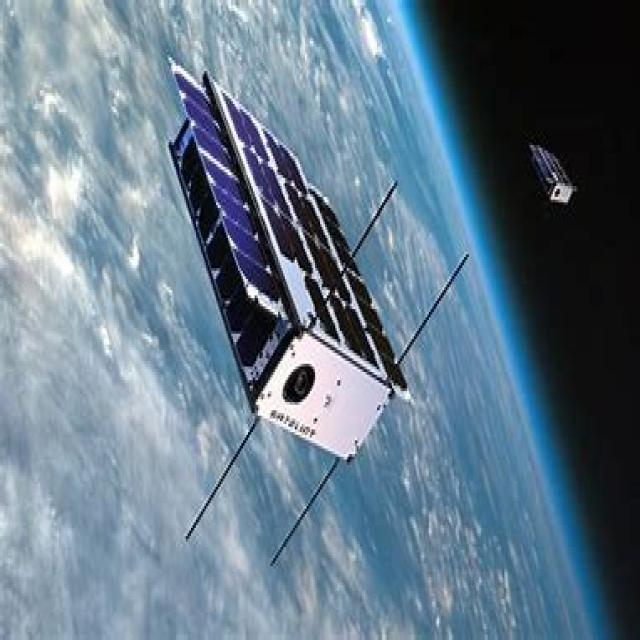satellite: (147, 71, 461, 571), (516, 129, 597, 221)
